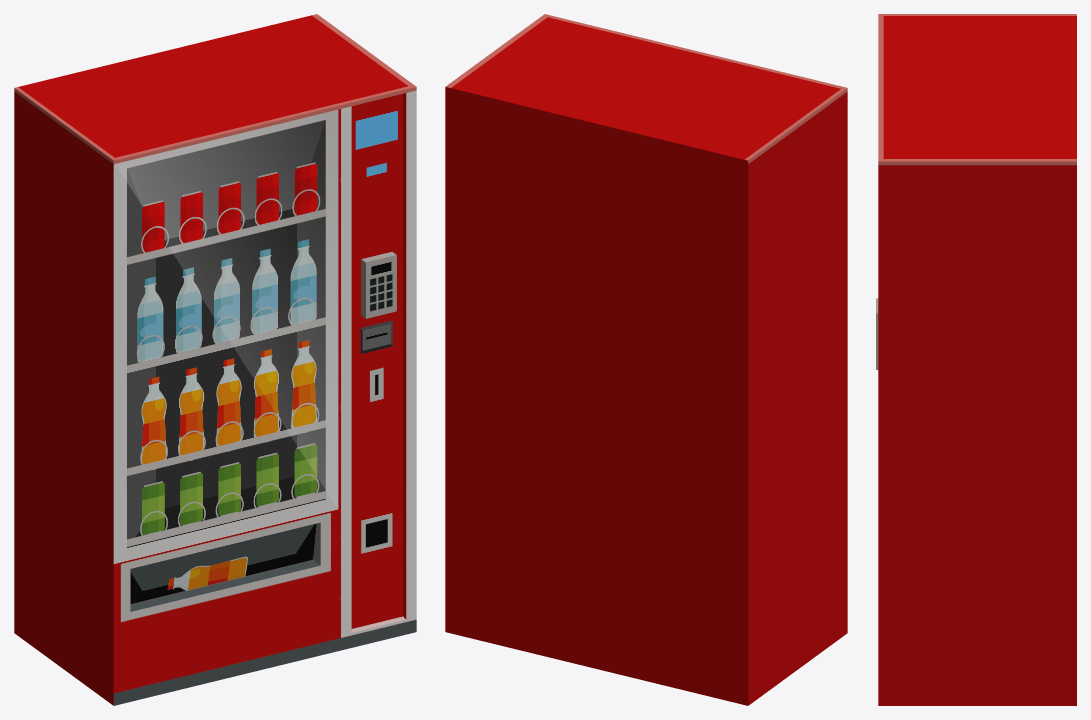
The model's file is CocaMachine.fbx.
3 renders of one model, left to right at view 1: azimuth 30°, elevation 25°; view 2: azimuth 150°, elevation 25°; view 3: azimuth 270°, elevation 25°, orthographic.
Parts seen in each view (by area): view 1: Cube.003; view 2: Cube.003; view 3: Cube.003.
Part boxes in pixels (bbox=[...]): Cube.003: bbox=[14, 14, 416, 705]; Cube.003: bbox=[445, 14, 847, 705]; Cube.003: bbox=[876, 14, 1076, 705].
Size of the model in its own units: 288 by 496 by 166.
2 materials, 1 textured.
